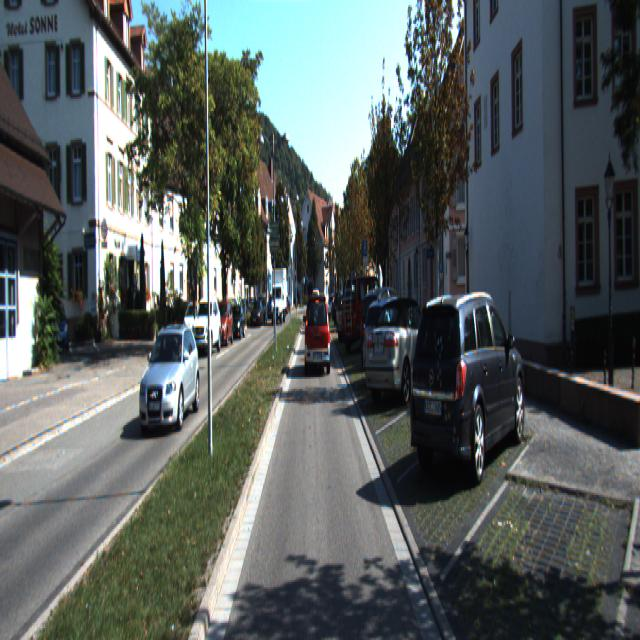Car: (408, 286, 528, 492), (364, 294, 442, 404), (138, 324, 201, 434), (362, 296, 424, 388), (360, 286, 412, 371), (340, 274, 388, 352), (306, 296, 332, 376), (336, 294, 373, 344), (192, 298, 222, 356), (212, 301, 235, 348), (48, 306, 70, 354), (270, 272, 288, 324), (331, 292, 357, 326), (183, 302, 201, 343), (228, 306, 245, 341), (250, 299, 264, 327)
